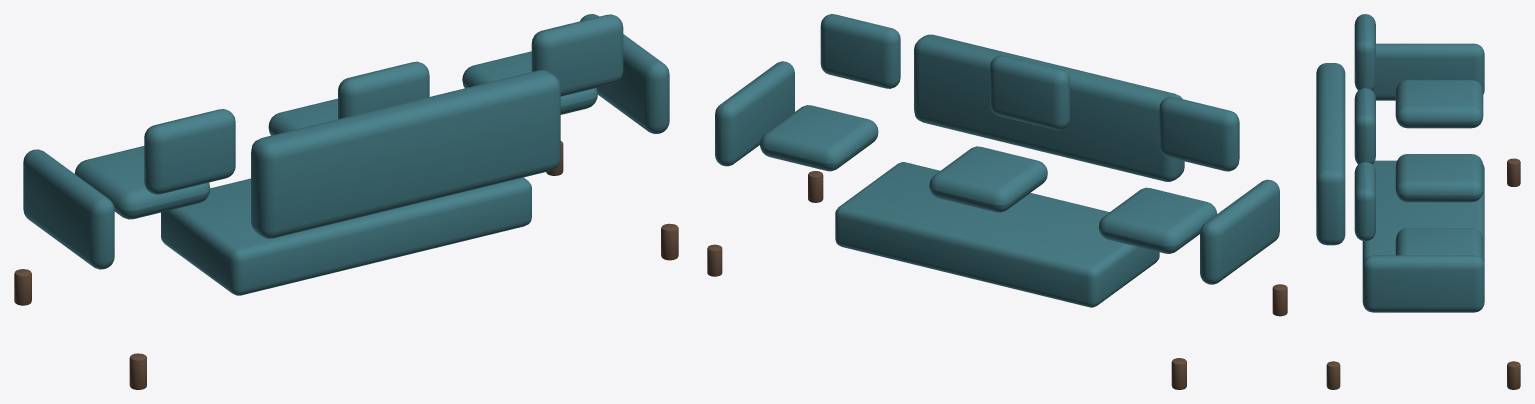
File: sofa.glb
The picture shows the model from 3 angles, left to right: view 1: azimuth 30°, elevation 25°; view 2: azimuth 150°, elevation 25°; view 3: azimuth 270°, elevation 25°; orthographic projection. The views are drawn at different scales.
Visible parts, largest first — view 1: back, base, arm, backpad0, backpad2, cushion0, arm.001, backpad1, cushion2, cushion1, leg.001, leg (+1 smaller); view 2: base, back, arm, cushion1, cushion2, cushion0, arm.001, backpad0, backpad2, backpad1, leg.003, leg; view 3: arm.001, back, base, arm, cushion0, cushion1, cushion2, backpad2, backpad1, backpad0, leg.002, leg.001 (+1 smaller).
Part boxes in pixels (bbox=[...]): back: bbox=[251, 70, 560, 238]; base: bbox=[161, 177, 531, 295]; arm: bbox=[23, 149, 114, 269]; backpad0: bbox=[144, 109, 235, 194]; backpad2: bbox=[531, 14, 623, 96]; cushion0: bbox=[74, 146, 210, 219]; arm.001: bbox=[580, 14, 669, 133]; backpad1: bbox=[338, 61, 429, 119]; cushion2: bbox=[462, 51, 597, 114]; cushion1: bbox=[268, 98, 337, 135]; leg.001: bbox=[14, 269, 31, 305]; leg: bbox=[129, 353, 146, 389]; base: bbox=[835, 162, 1159, 307]; back: bbox=[914, 34, 1184, 181]; arm: bbox=[1200, 179, 1279, 284]; cushion1: bbox=[929, 146, 1047, 212]; cushion2: bbox=[760, 105, 878, 171]; cushion0: bbox=[1098, 187, 1216, 253]; arm.001: bbox=[715, 61, 794, 166]; backpad0: bbox=[1159, 96, 1239, 171]; backpad2: bbox=[820, 14, 900, 88]; backpad1: bbox=[990, 55, 1069, 130]; leg.003: bbox=[707, 244, 722, 276]; leg: bbox=[1272, 284, 1287, 316]; arm.001: bbox=[1362, 255, 1484, 312]; back: bbox=[1316, 63, 1345, 245]; base: bbox=[1362, 160, 1484, 264]; arm: bbox=[1372, 43, 1484, 100]; cushion0: bbox=[1395, 80, 1483, 128]; cushion1: bbox=[1395, 154, 1483, 202]; cushion2: bbox=[1395, 228, 1483, 260]; backpad2: bbox=[1354, 162, 1375, 241]; backpad1: bbox=[1354, 88, 1375, 164]; backpad0: bbox=[1354, 14, 1375, 90]; leg.002: bbox=[1326, 361, 1340, 389]; leg.001: bbox=[1507, 158, 1520, 186].
Bounding box in the file's own units: 1.97 × 0.77 × 0.771.
